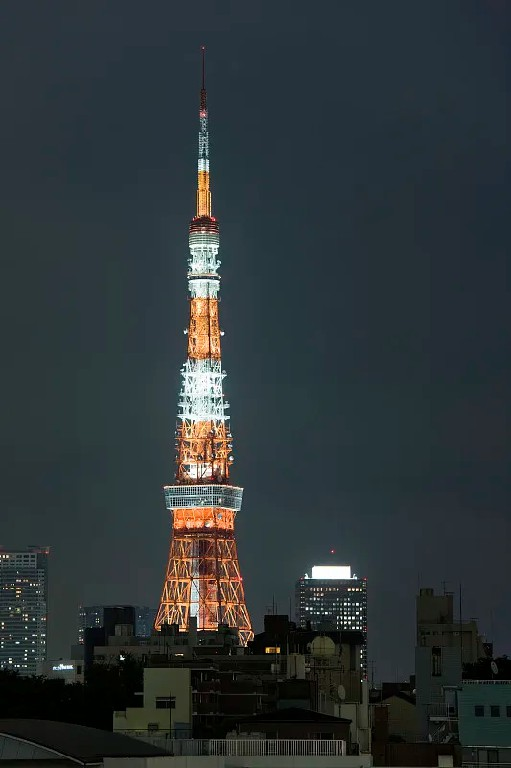Tokyo: (155, 43, 257, 647)
